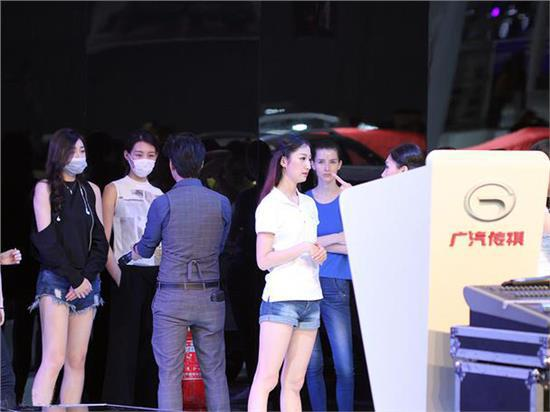NONE: (286, 153, 312, 183), (380, 163, 403, 190), (318, 156, 340, 182)
OK: (131, 151, 156, 178)
WRONG: (59, 144, 91, 176)
